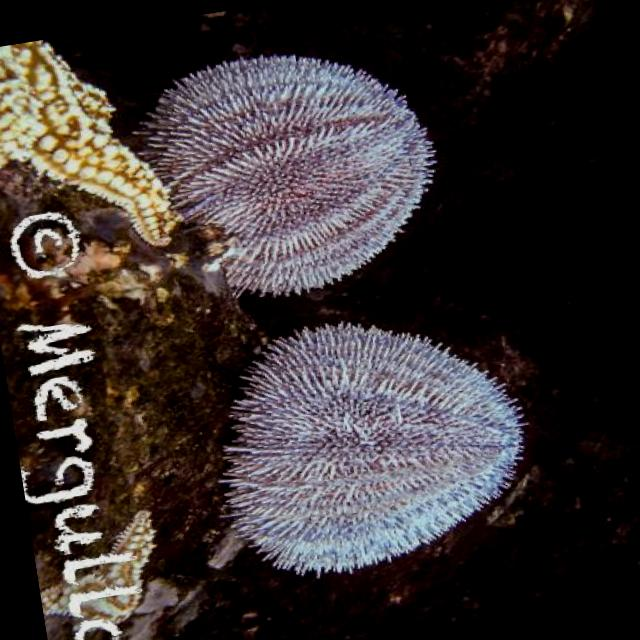Deniz Kestanesi: (190, 295, 548, 594), (122, 28, 454, 316)
